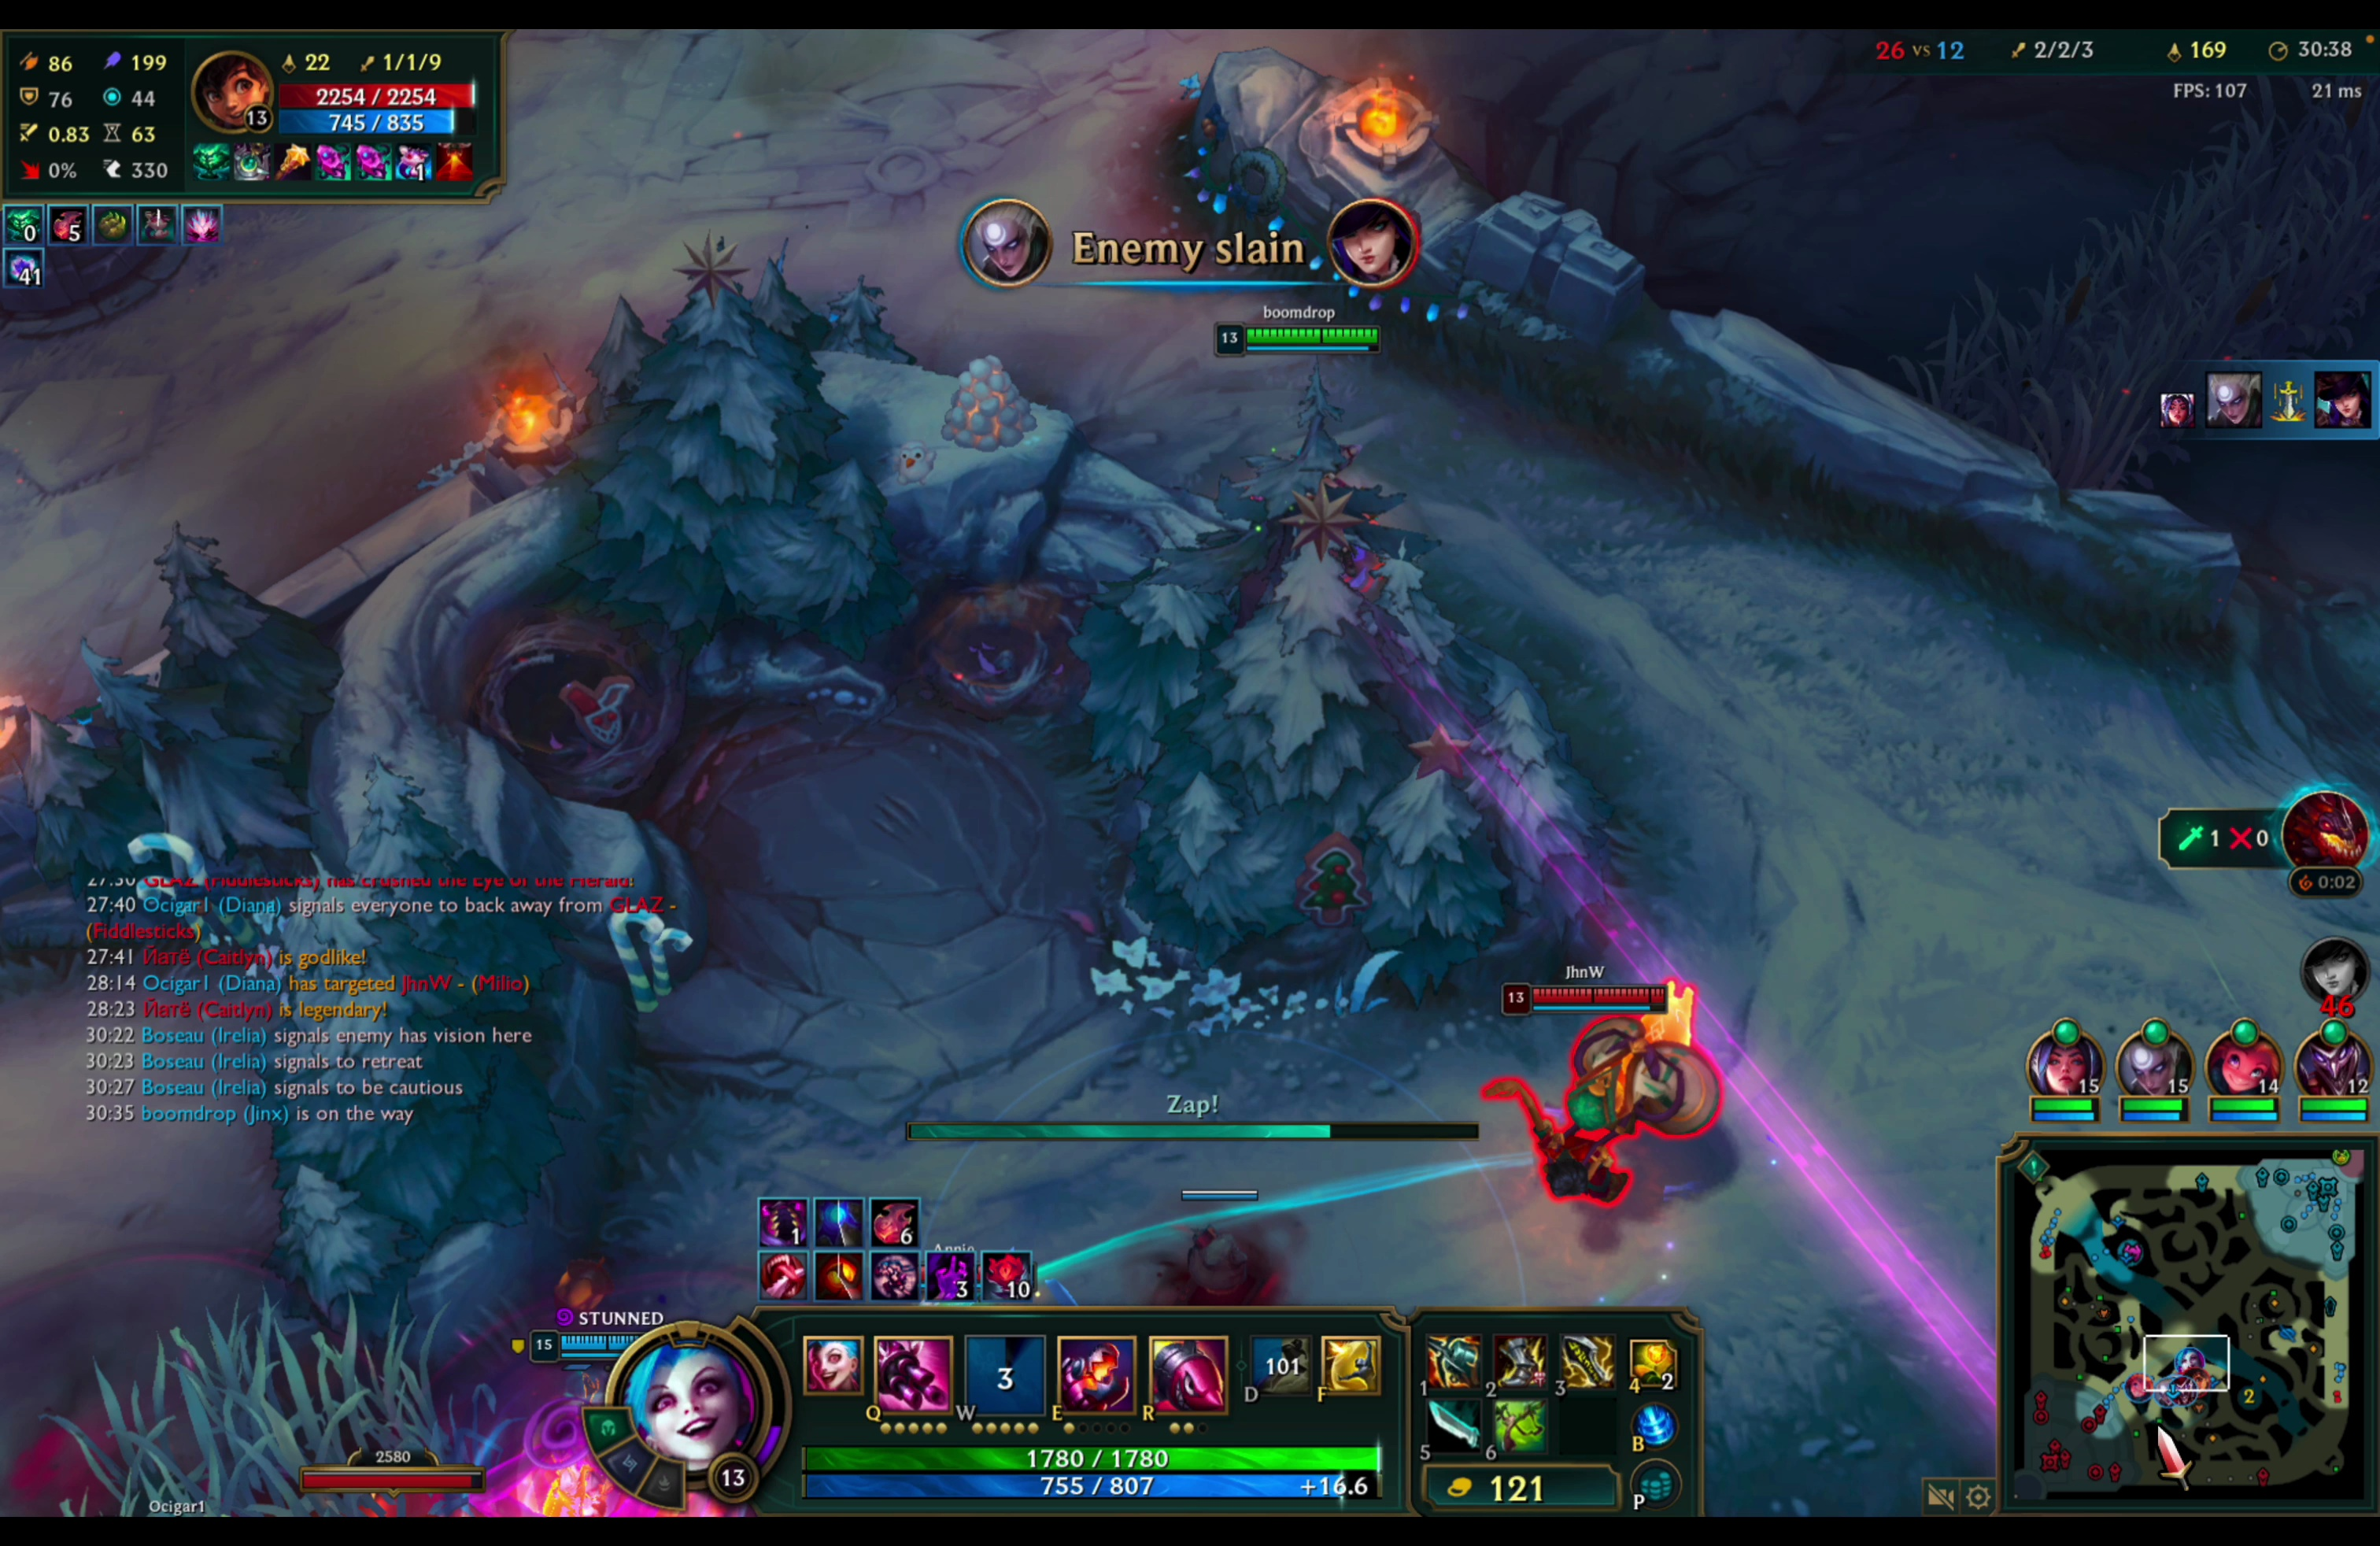JINX_W_PROJECTILE: (1188, 297, 1421, 557)
